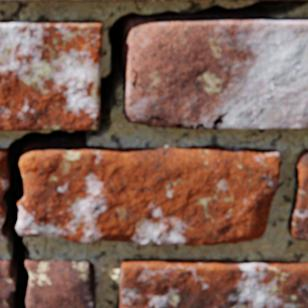brick: (123, 17, 307, 129), (0, 21, 101, 130), (116, 258, 307, 307), (287, 149, 307, 240), (0, 0, 279, 1)
broken_brick: (16, 145, 279, 244), (25, 257, 95, 307), (0, 258, 15, 307), (0, 164, 8, 226), (0, 148, 6, 160), (0, 232, 6, 239)
crack: (0, 0, 307, 307), (149, 116, 181, 128), (211, 113, 226, 129), (132, 69, 136, 87), (195, 123, 205, 129), (184, 125, 192, 129)
